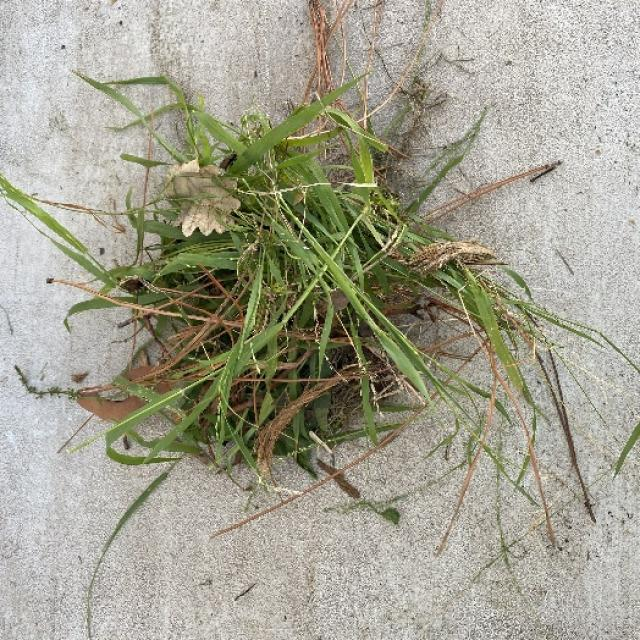organik: (64, 46, 539, 516)
